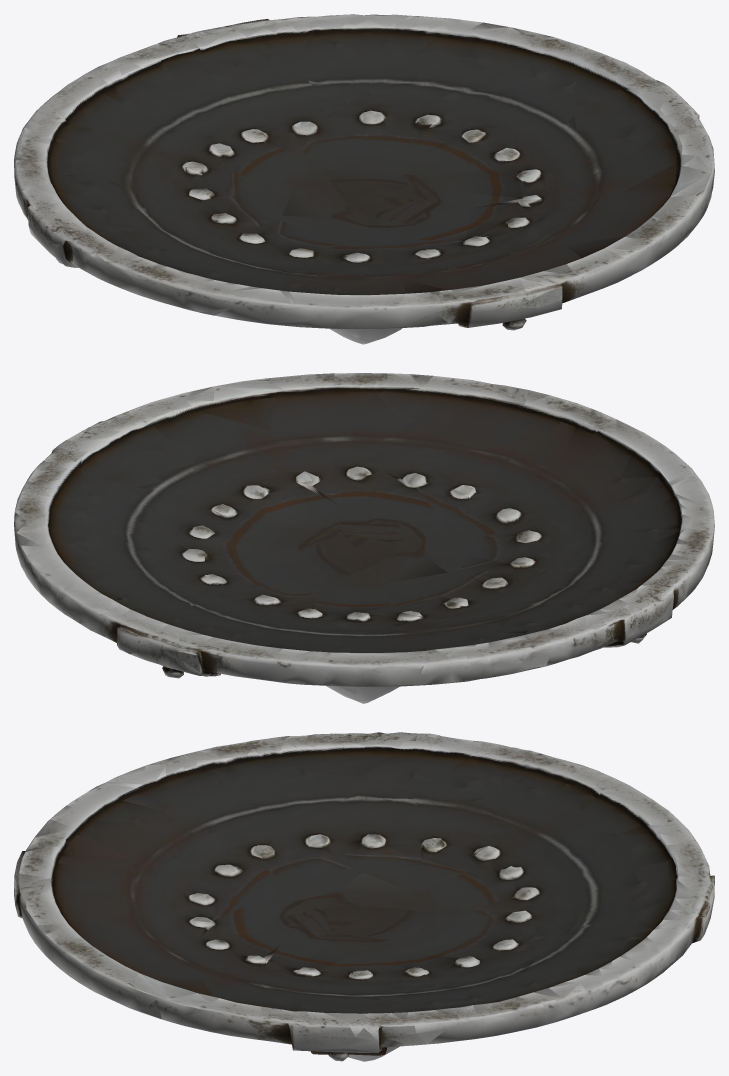
File: shield1.glb
3 renders of one model, top to bottom at view 1: azimuth 30°, elevation 25°; view 2: azimuth 150°, elevation 25°; view 3: azimuth 270°, elevation 25°, orthographic.
Visible parts, largest first — view 1: tripo_node_2800eb42; view 2: tripo_node_2800eb42; view 3: tripo_node_2800eb42.
Part boxes in pixels (x1,y1,x2,y2): tripo_node_2800eb42: (14, 14, 714, 344); tripo_node_2800eb42: (14, 373, 714, 703); tripo_node_2800eb42: (14, 732, 714, 1061).
Size of the model in its own units: 0.4115 by 0.1188 by 0.4114.
Materials: 1 (1 with a texture image).
